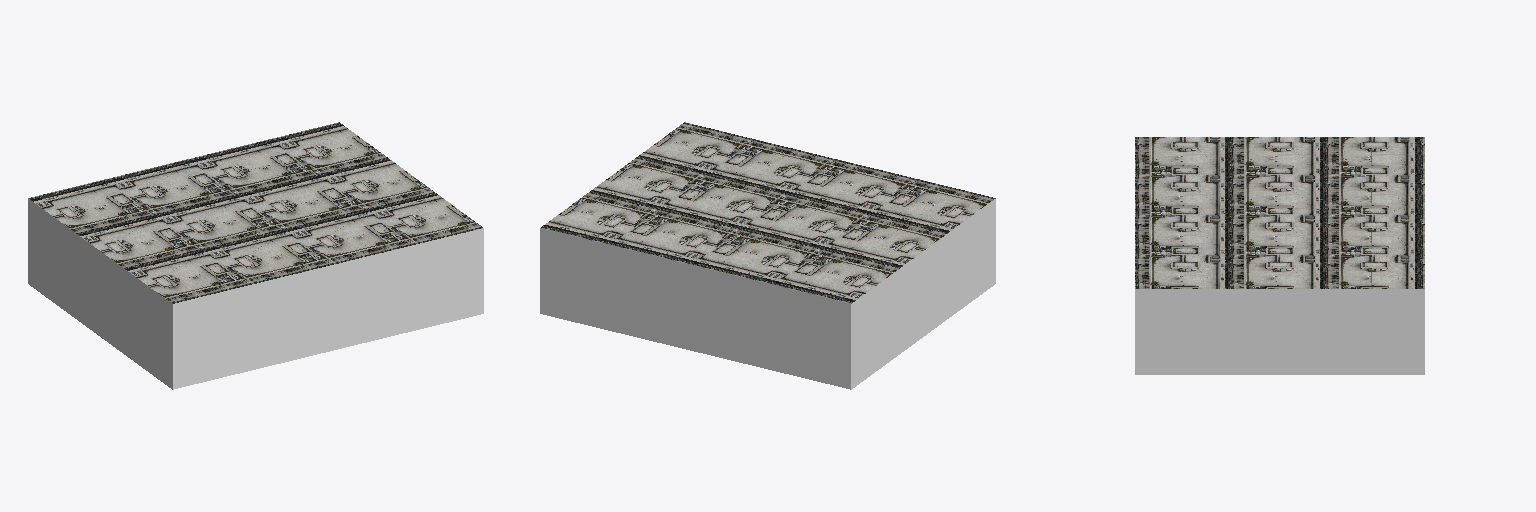
3 views of the same model, side by side, from view 1: azimuth 30°, elevation 25°; view 2: azimuth 150°, elevation 25°; view 3: azimuth 270°, elevation 25° (orthographic).
Parts seen in each view (by area): view 1: Building_11.[number redacted]_9.[number redacted]; view 2: Building_11.[number redacted]_9.[number redacted]; view 3: Building_11.[number redacted]_9.[number redacted].
Part boxes in pixels (left/top/right/bottom): Building_11.[number redacted]_9.[number redacted]: left=28, top=122, right=483, bottom=389; Building_11.[number redacted]_9.[number redacted]: left=540, top=122, right=995, bottom=389; Building_11.[number redacted]_9.[number redacted]: left=1135, top=137, right=1424, bottom=374.
Bounding box in the file's own units: 11.39 × 3 × 9.16.
Materials: 2 (1 with a texture image).